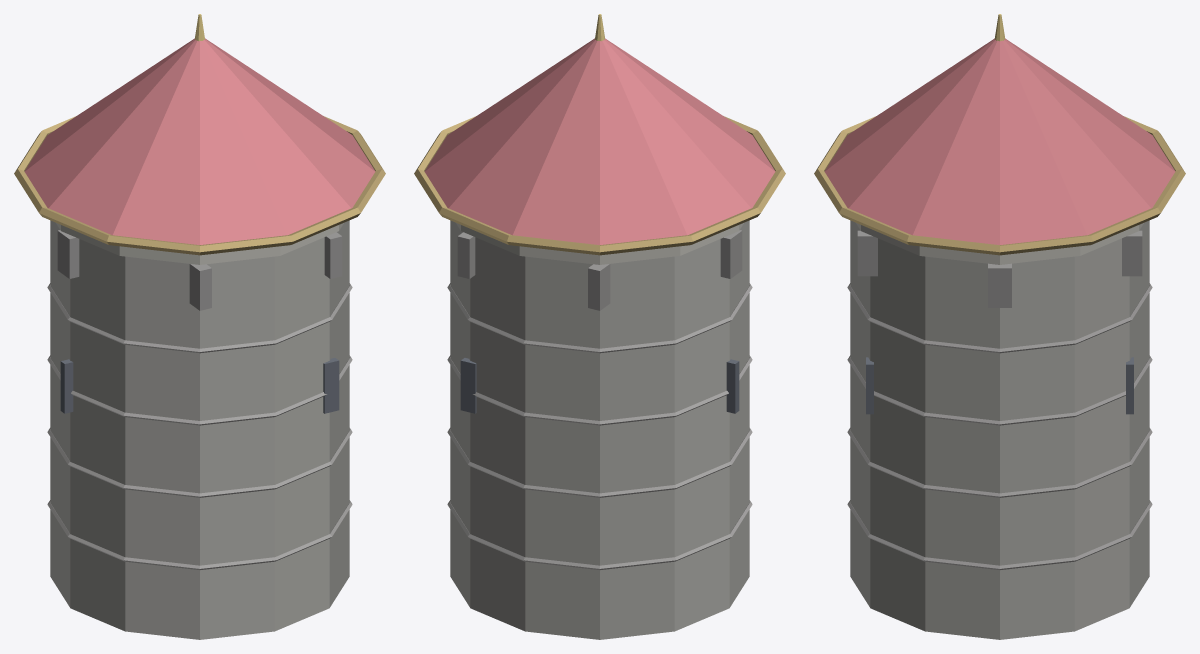
Rendered from torre_esquina_alta.glb.
3 renders of one model, left to right at view 1: azimuth 30°, elevation 25°; view 2: azimuth 150°, elevation 25°; view 3: azimuth 270°, elevation 25°, orthographic.
Visible parts, largest first — view 1: torre_esquina_alta; view 2: torre_esquina_alta; view 3: torre_esquina_alta.
Boxes of the visible parts, left/top/right/bottom form: torre_esquina_alta: left=14, top=14, right=385, bottom=639; torre_esquina_alta: left=414, top=14, right=785, bottom=639; torre_esquina_alta: left=814, top=14, right=1185, bottom=639.
Size of the model in its own units: 3.73 by 6.22 by 3.73.
